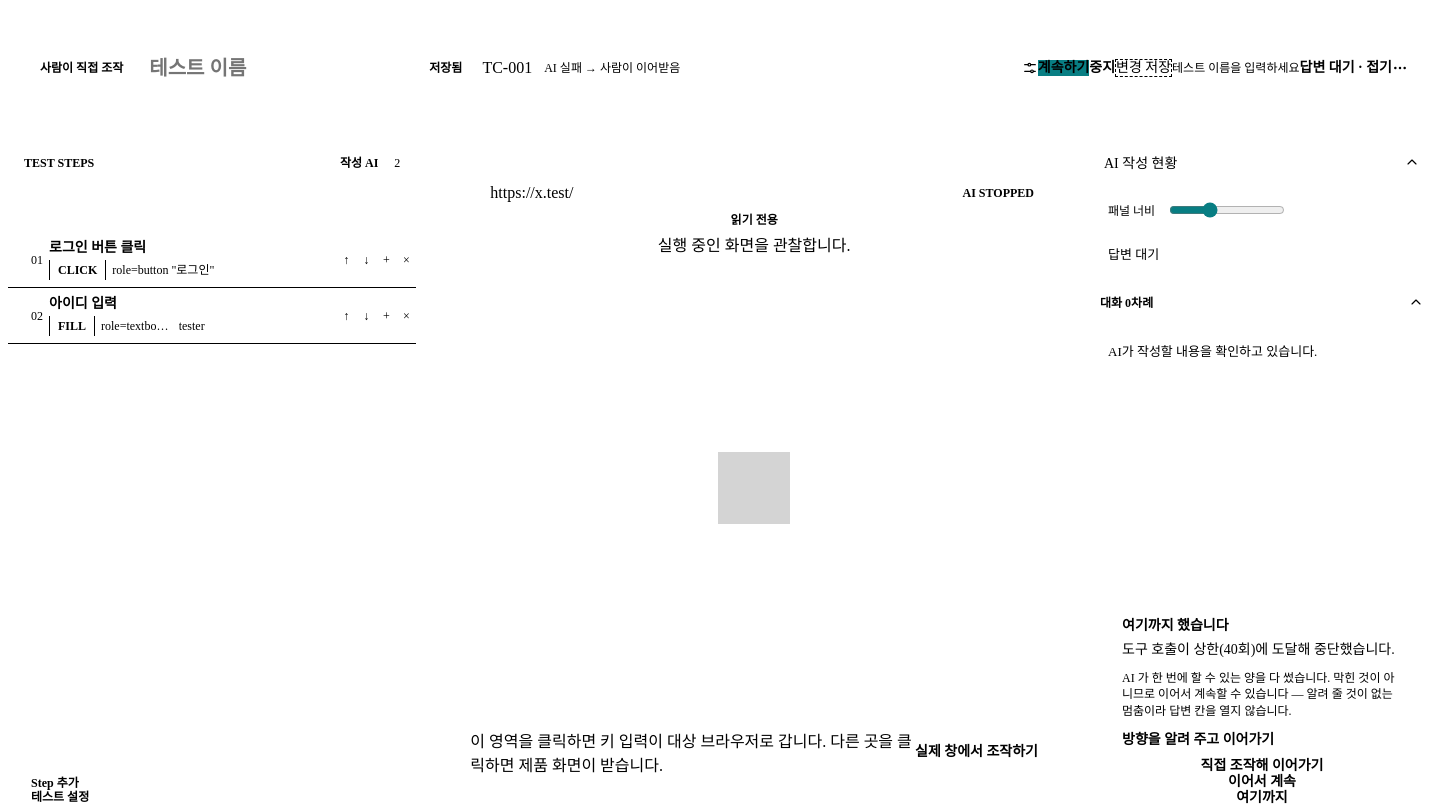
Test case: 방향을 적을 길이 남는다 (FR-011 · US2/AC5 · converge F1) › 열면 칸이 나온다 — 「적지 않아도 된다」와 「적을 수 없다」는 다르다
Step 1. Click the button "방향을 알려 주고 이어가기" → (1198, 740), box [1122,732,1274,748]
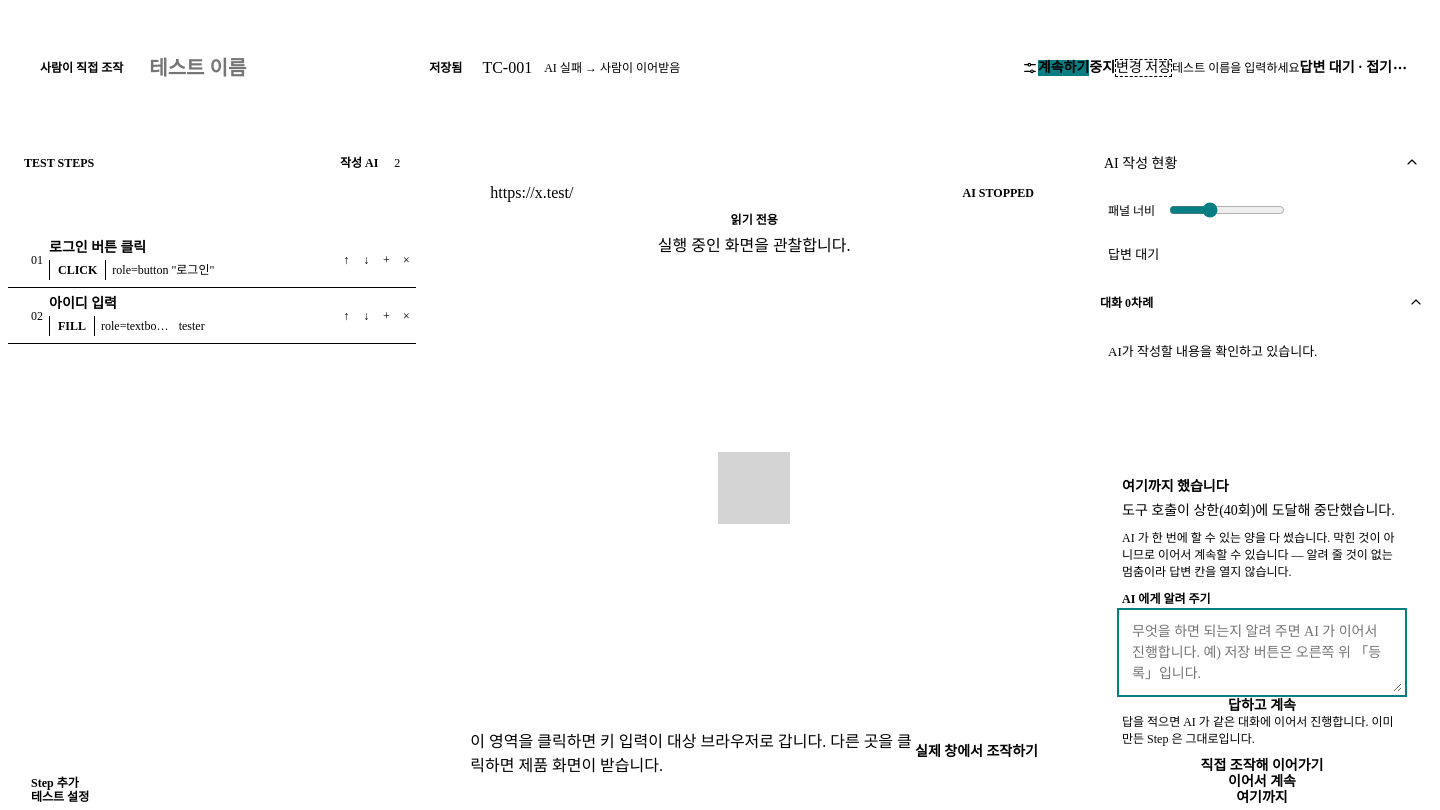
expect the text box with id "blocked-answer" is shown: met, box [1122,613,1402,692]
